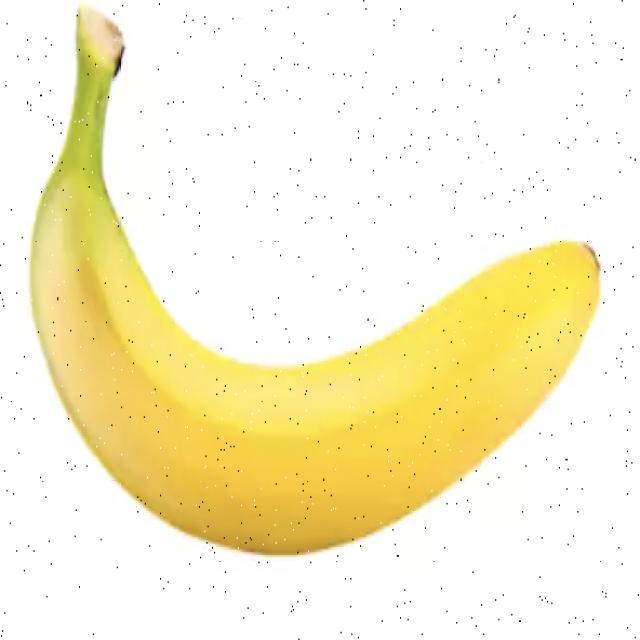Banana: (28, 2, 601, 555)
